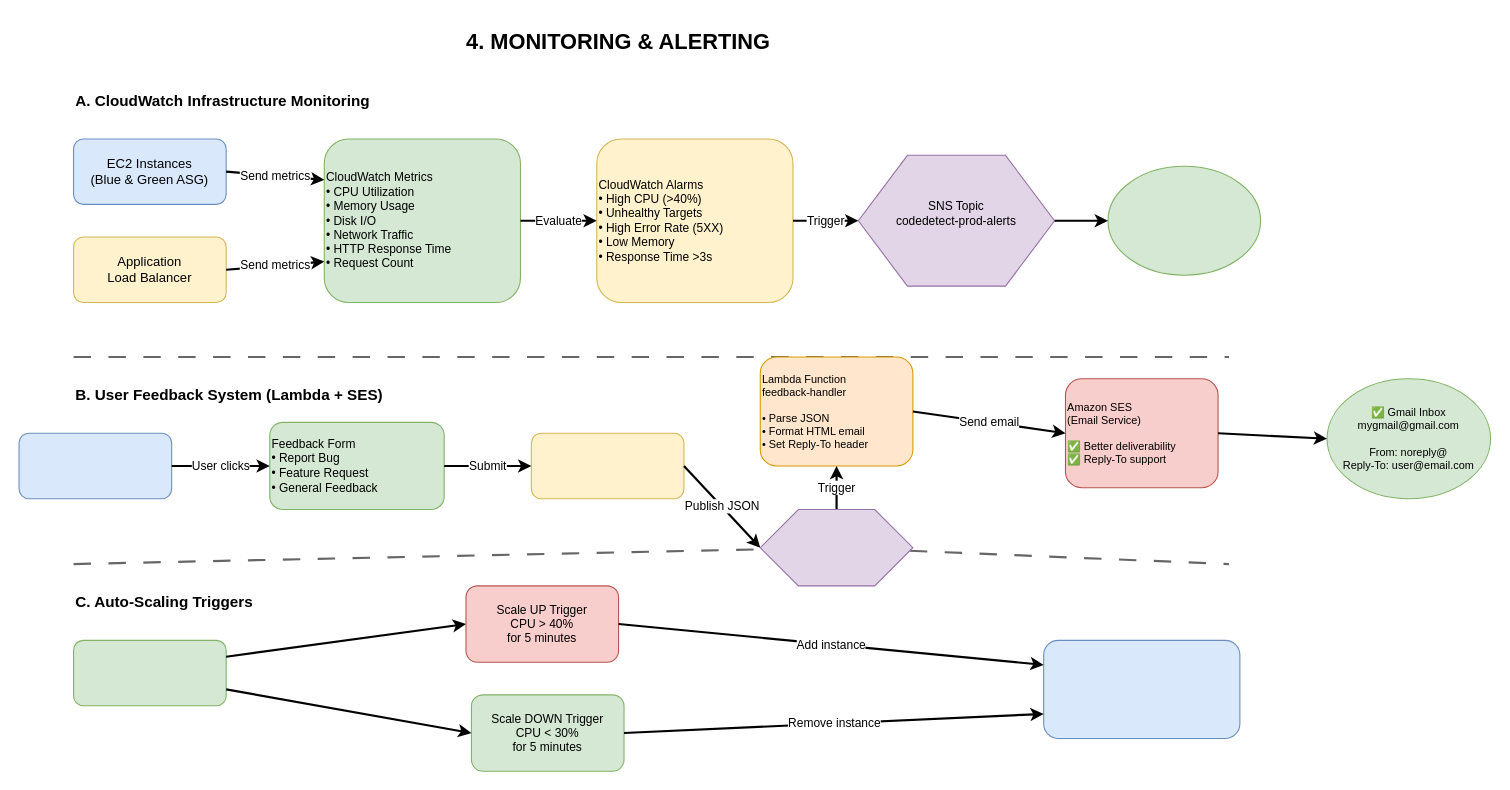
This 1510x790 diagram has some shape labels left out. Here are the shapes that lost their labels. From the top down, the box of each, then its label:
(1107, 165, 1261, 275): ✅ Email + SMS mygmail@gmail.com
(18, 432, 172, 499): Dashboard (User Interface)
(530, 432, 684, 499): POST /api/report (Flask Backend)
(759, 508, 913, 586): SNS Topic user-feedback
(72, 639, 226, 706): CloudWatch Metrics CPU Utilization
(1043, 639, 1240, 738): Auto Scaling Group Add/Remove EC2 Instances Min: 2, Max: 4
